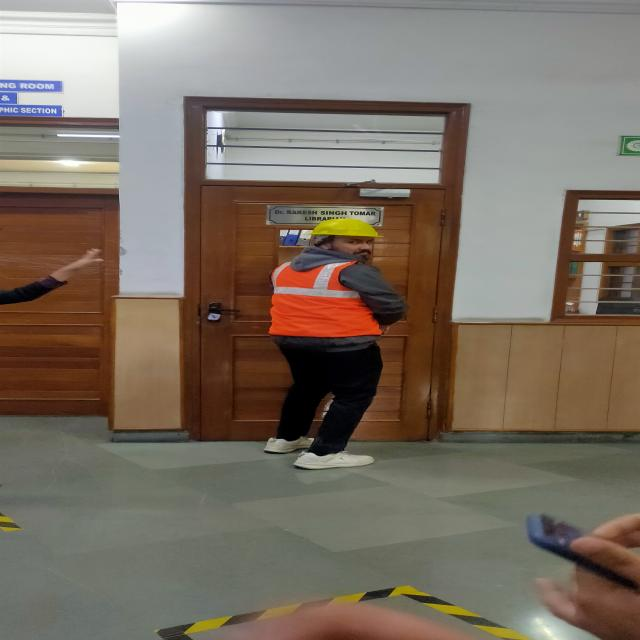safe: (266, 219, 403, 470)
